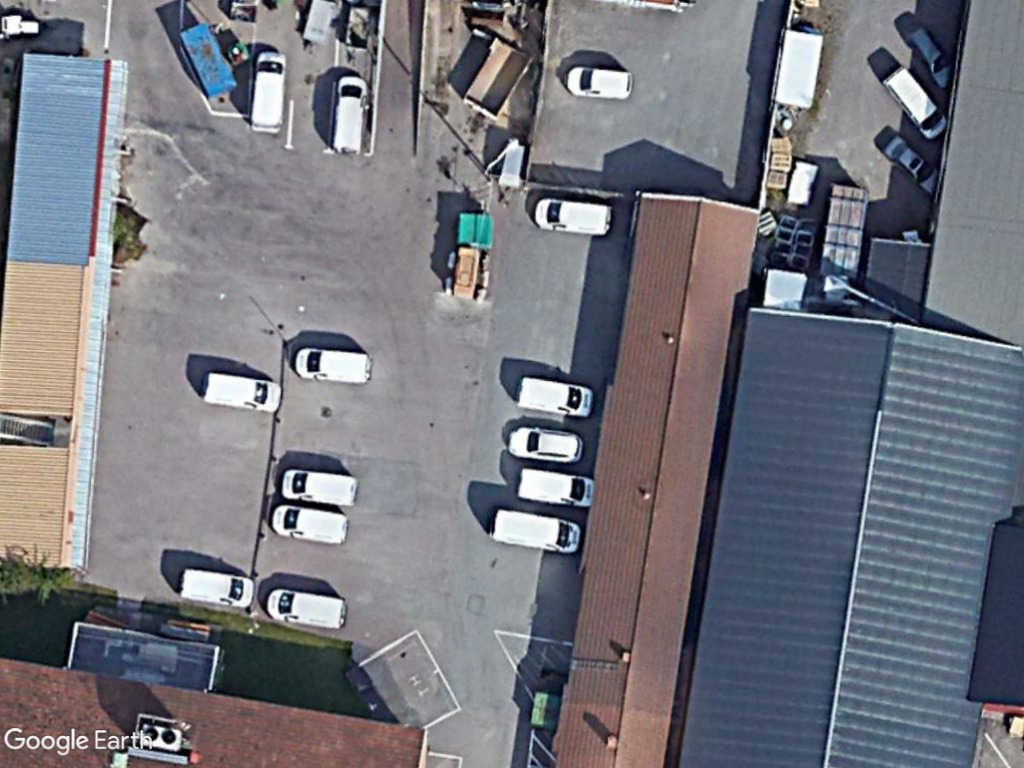car: (505, 424, 586, 465), (563, 64, 638, 101)
van: (876, 64, 950, 142), (486, 506, 587, 557), (266, 586, 355, 635), (199, 367, 286, 416), (514, 373, 599, 422), (513, 465, 598, 513), (326, 72, 373, 158), (531, 193, 618, 239), (269, 500, 353, 547), (246, 48, 289, 138), (177, 565, 259, 612), (293, 344, 376, 387), (278, 467, 363, 508)
